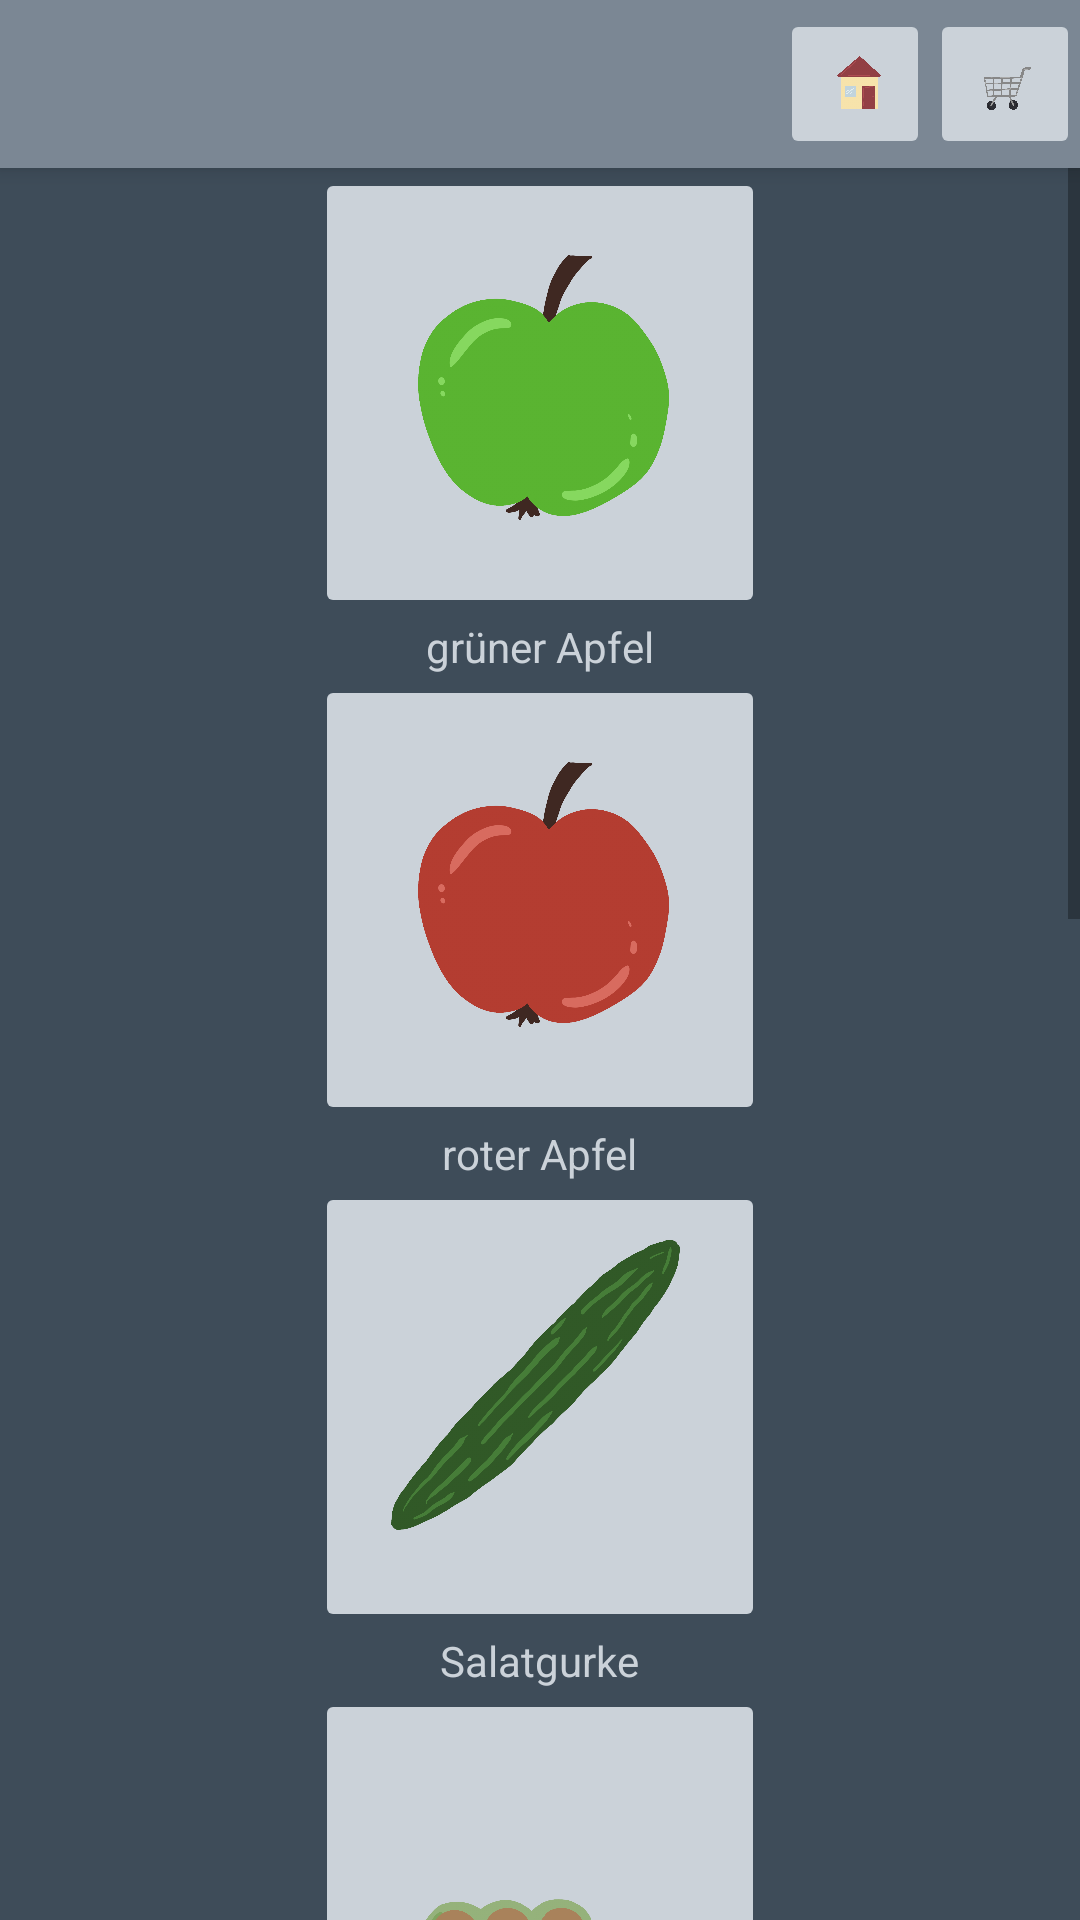

Screen size 1080 × 1920. Icon name, then its center in pixels as [x,y]:
home: [855,84]
warenkorb: [1005,84]
